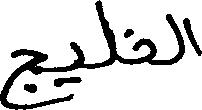X: (0, 44, 44, 109), (97, 0, 116, 72), (168, 9, 182, 69), (184, 13, 201, 60), (134, 33, 155, 69), (72, 37, 83, 103)
